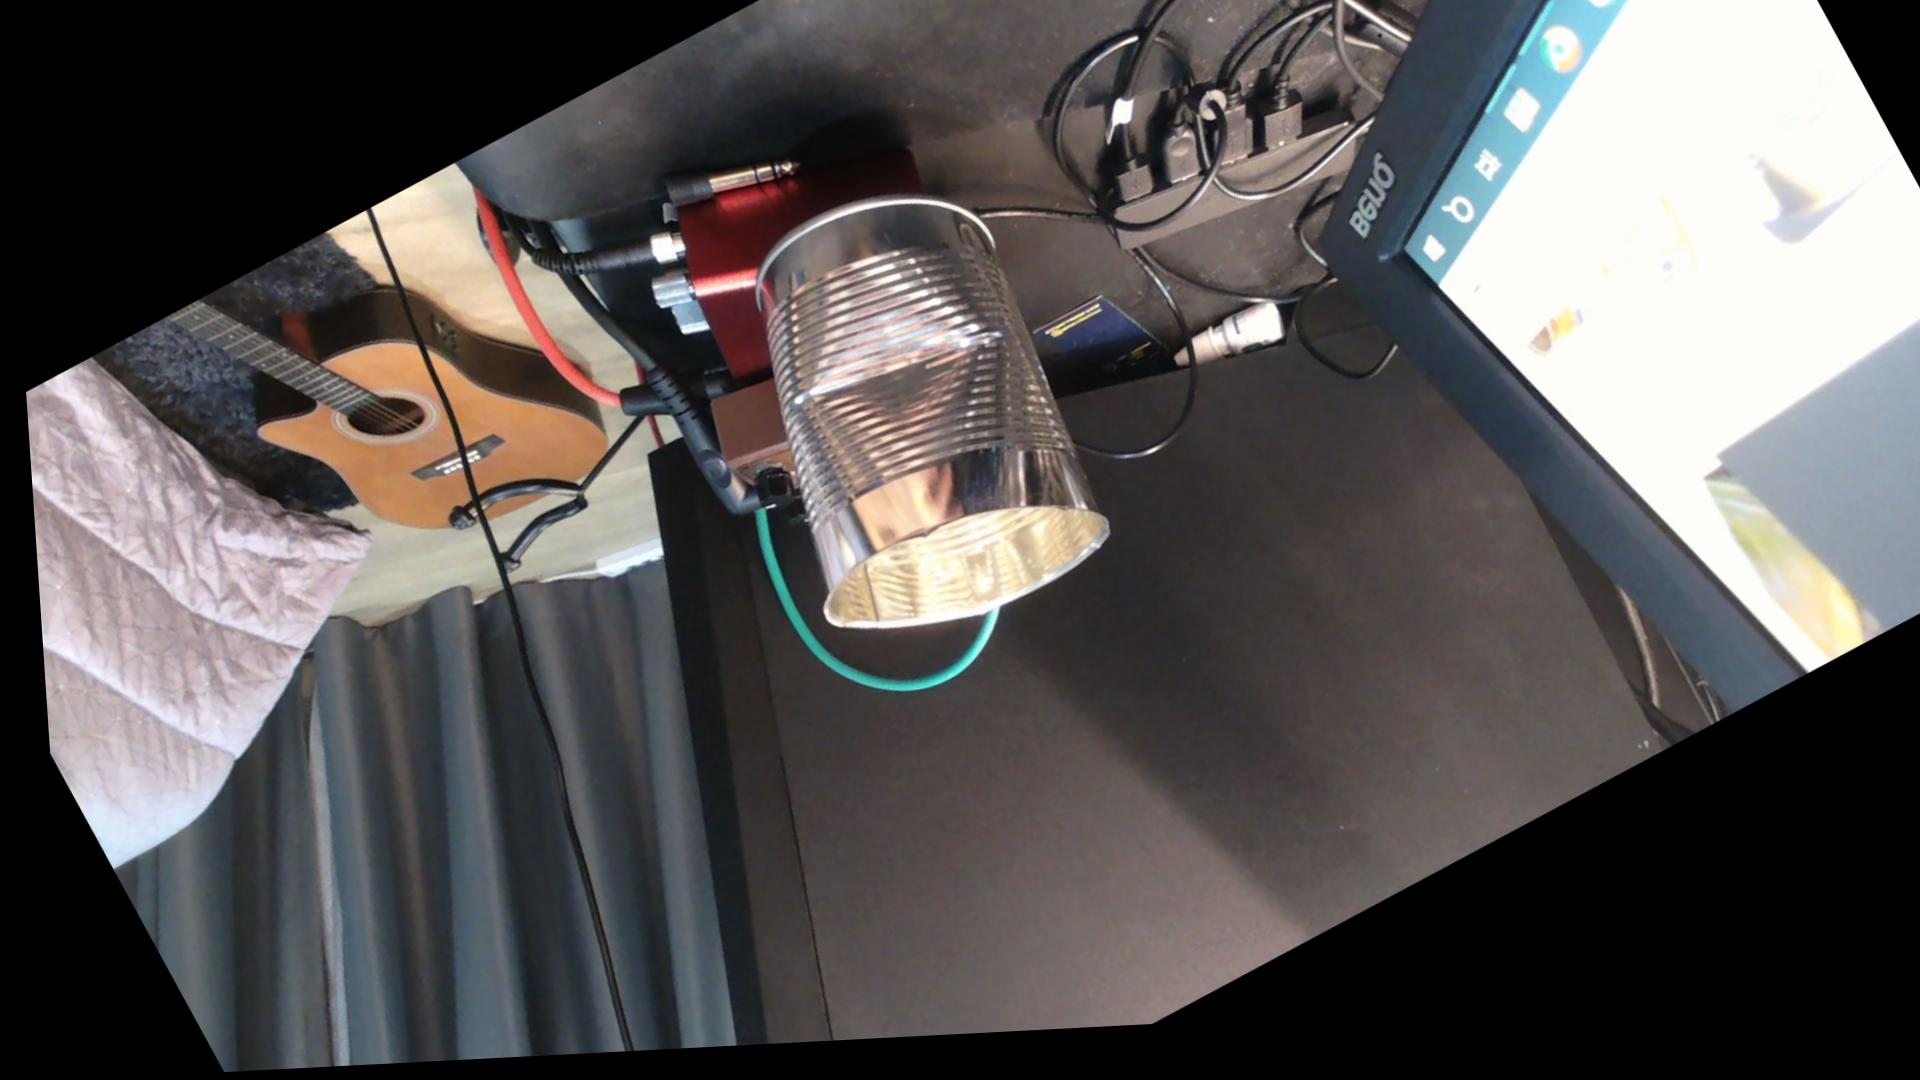metal: (655, 160, 1168, 680)
